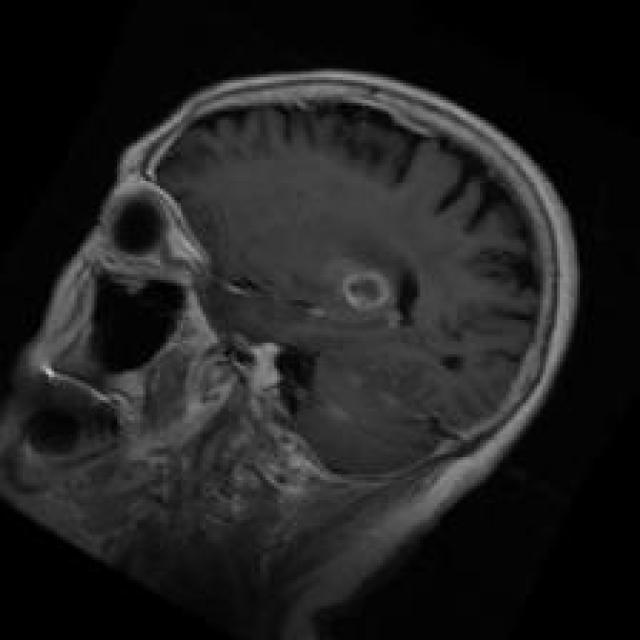glioma_tumor: (289, 220, 449, 352)
